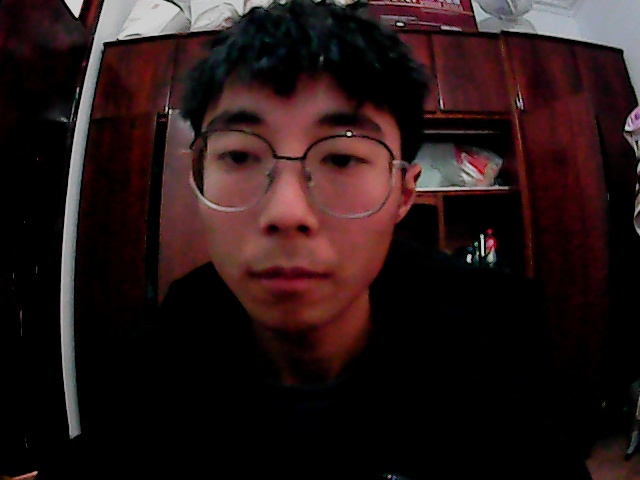face: (176, 7, 428, 345)
